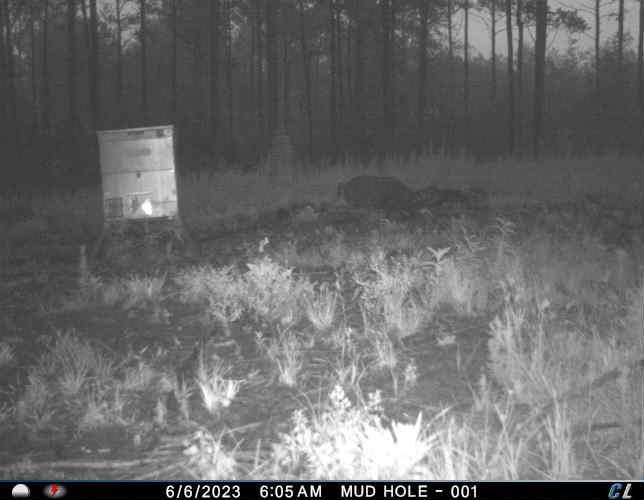Hog: (336, 173, 423, 217)
